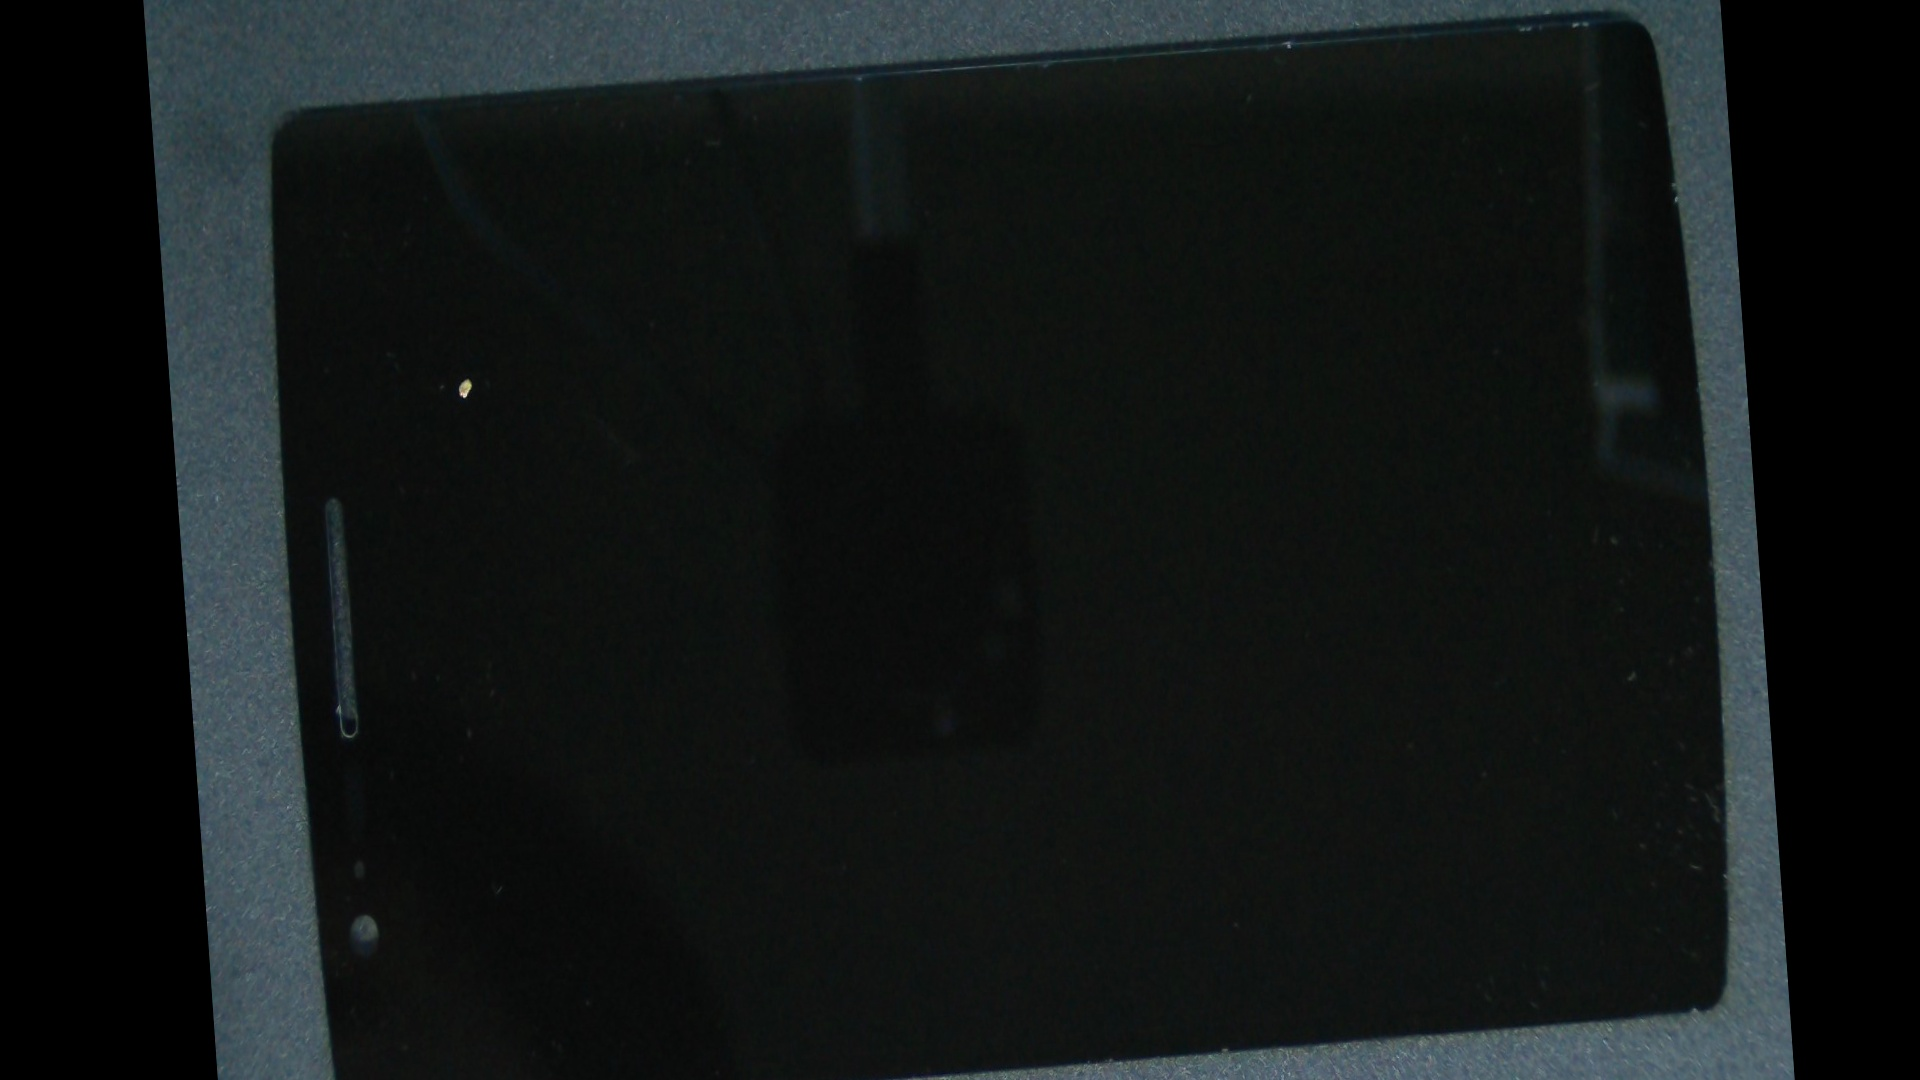oil: (303, 150, 624, 604)
